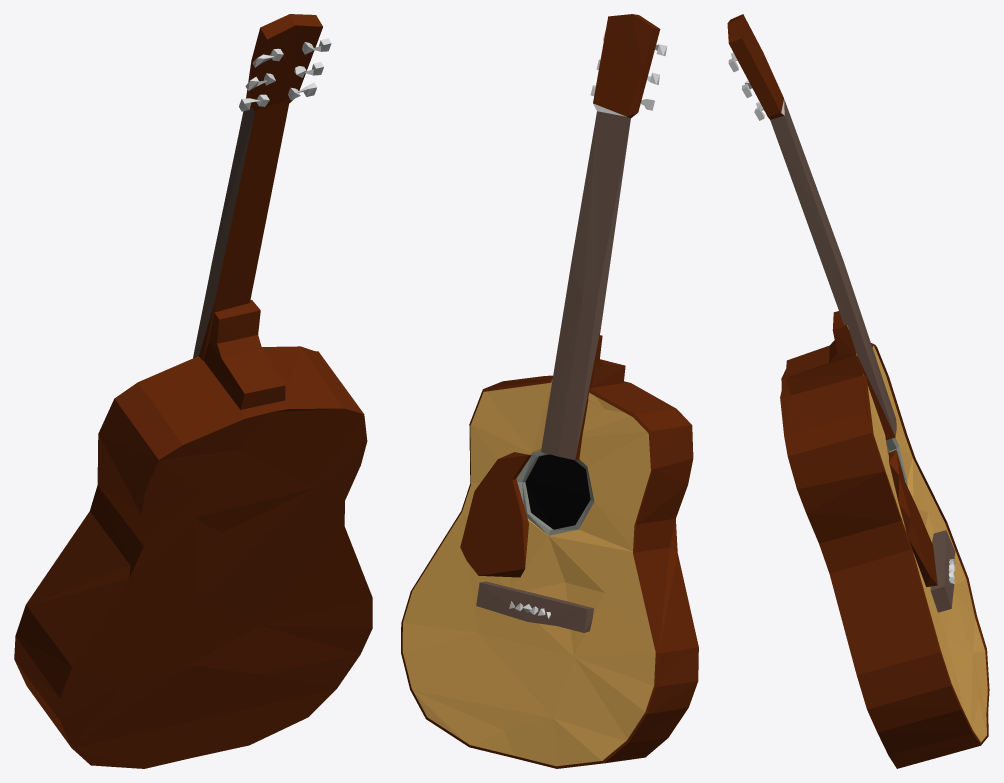
Rendered from guitar.fbx.
3 renders of one model, left to right at view 1: azimuth 30°, elevation 25°; view 2: azimuth 150°, elevation 25°; view 3: azimuth 270°, elevation 25°, orthographic. The views are drawn at different scales.
Parts seen in each view (by area): view 1: Cube.030, Cube.031, Cylinder.050; view 2: Cube.030, Cube.031, Cube.032, Cube.034, Cylinder.050; view 3: Cube.030, Cube.031, Cube.032, Cube.034, Cylinder.050.
Part boxes in pixels (box(x1,y1,x2,y2)): Cube.030: box(14, 300, 372, 768); Cube.031: box(193, 14, 322, 360); Cylinder.050: box(239, 38, 331, 111); Cube.030: box(401, 335, 698, 768); Cube.031: box(541, 14, 660, 460); Cube.032: box(460, 452, 531, 577); Cube.034: box(476, 581, 593, 632); Cylinder.050: box(509, 30, 667, 618); Cube.030: box(780, 311, 989, 768); Cube.031: box(727, 14, 896, 439); Cube.032: box(888, 450, 937, 586); Cube.034: box(930, 530, 955, 612); Cylinder.050: box(728, 52, 955, 583).
Size of the model in its own units: 402 by 1005 by 332.
